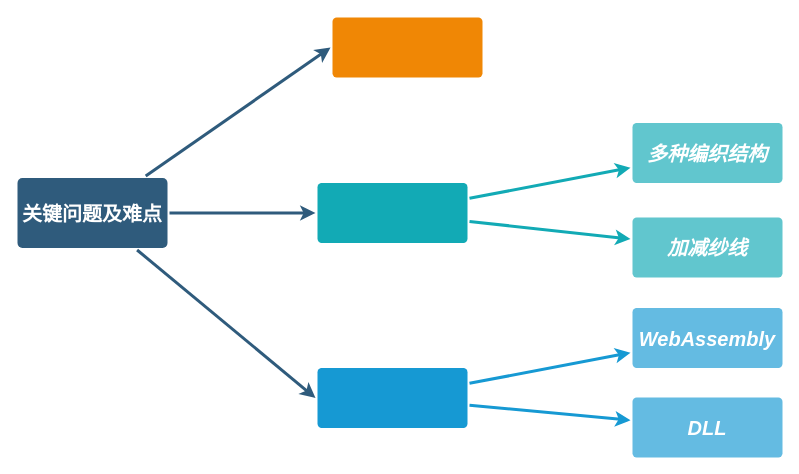
The diagram is 799 pixels wide and 474 high, and some of its shapes have lost their labels. The shapes that lost their labels are listed below. From the top down, each one's box as (x1, y1, x2, y2) in pixels, then its label:
(332, 17, 482, 77): 编织机的仿真模拟
(317, 182, 467, 242): 编织算法
(317, 368, 467, 428): 算法执行效率
